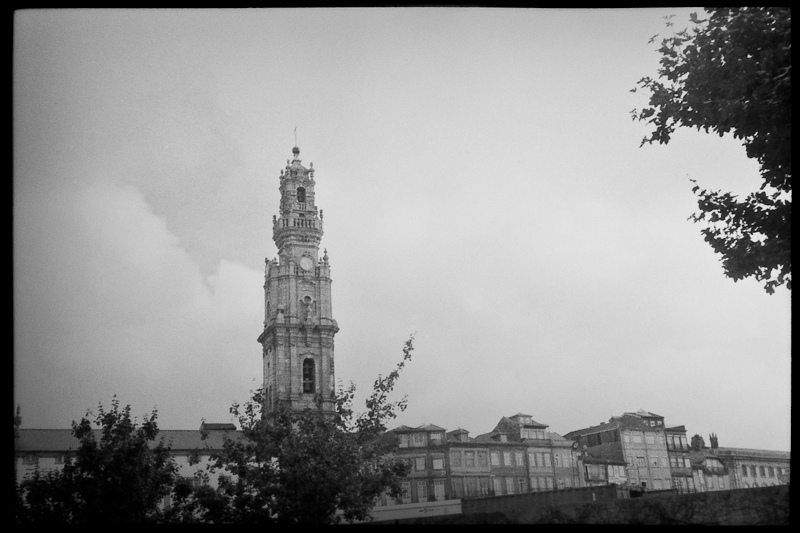clerigos: (253, 117, 352, 433)
